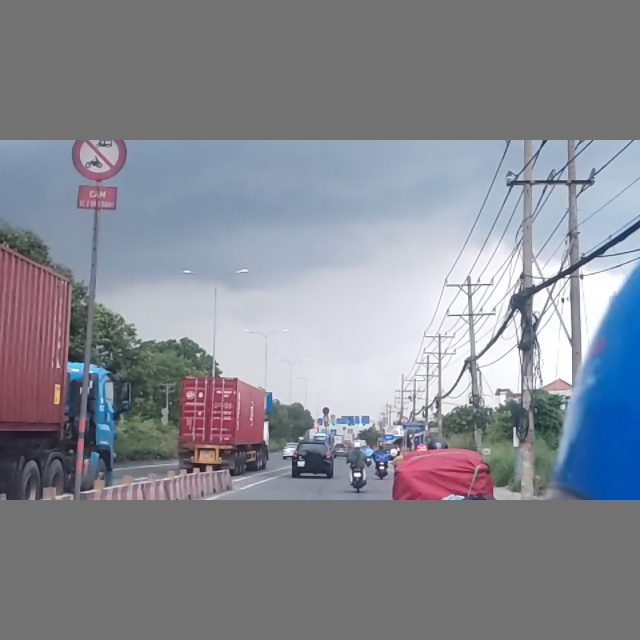P.111: (71, 141, 127, 180)
